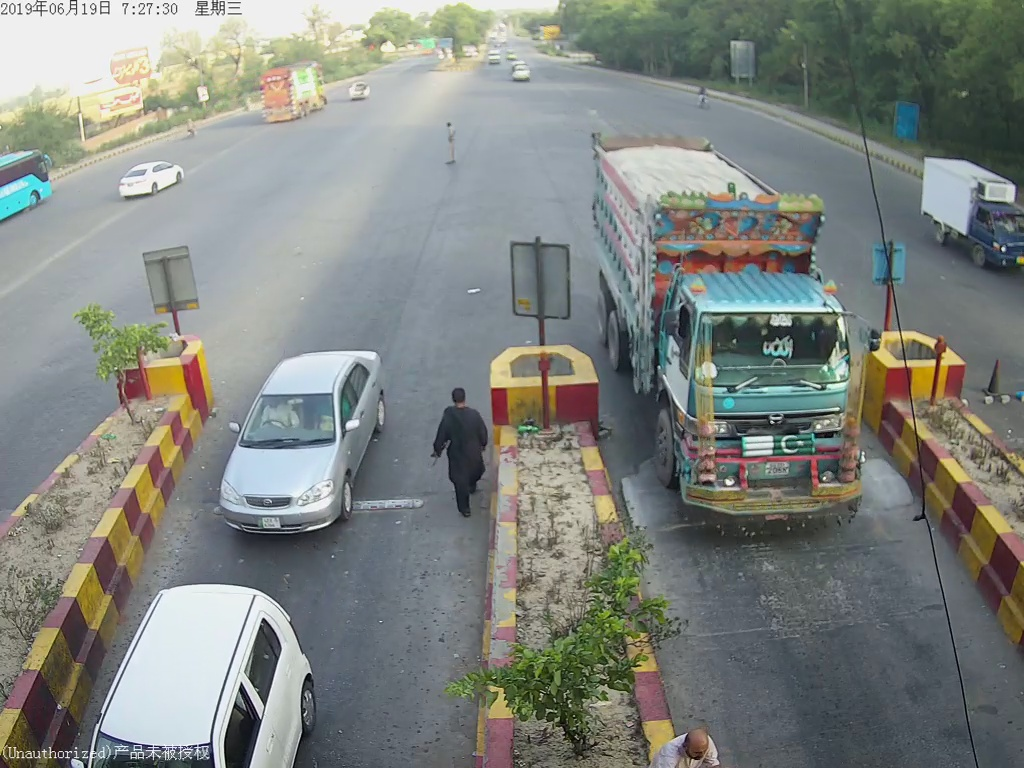Cat-1: (219, 340, 390, 553)
Cat-4: (589, 131, 872, 526)
